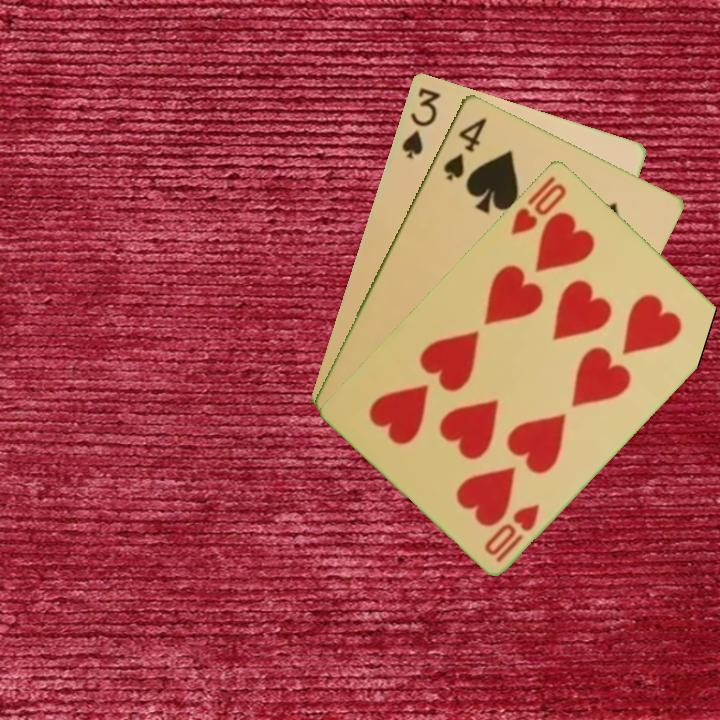10h: (481, 499, 543, 565), (507, 179, 569, 238)
3s: (398, 83, 443, 162)
4s: (439, 113, 490, 183)
